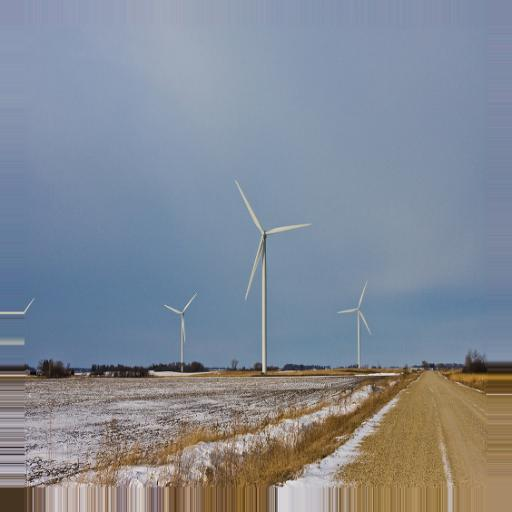wind turbine: (233, 180, 314, 369), (337, 280, 375, 368), (163, 292, 200, 367)
